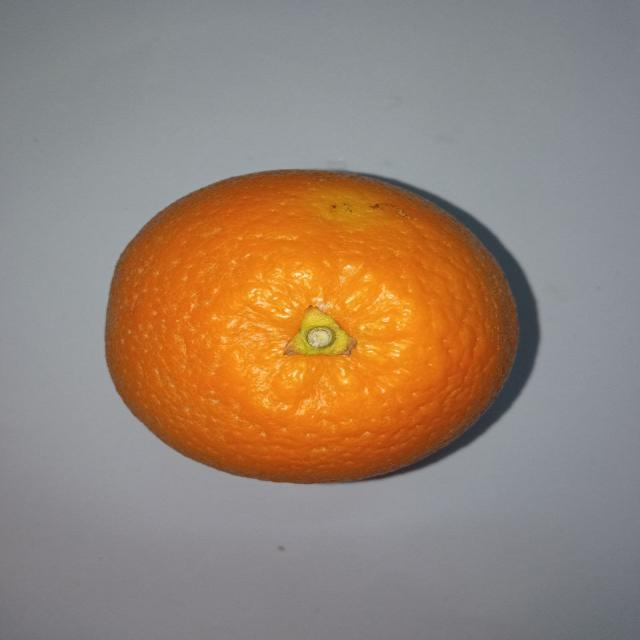fresh_orange: (103, 168, 519, 482)
